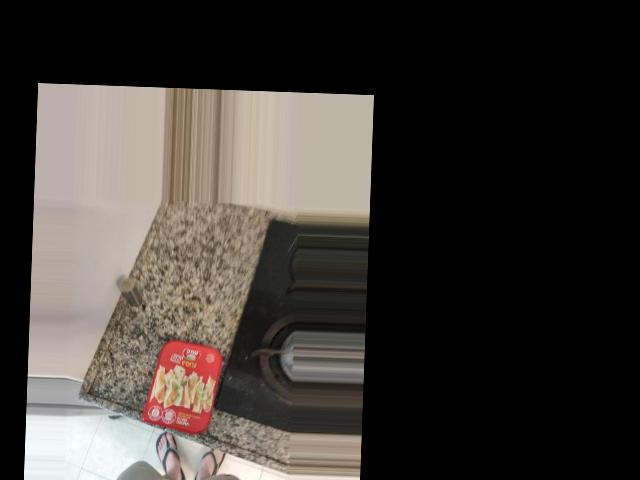cheese: (138, 250, 232, 362)
